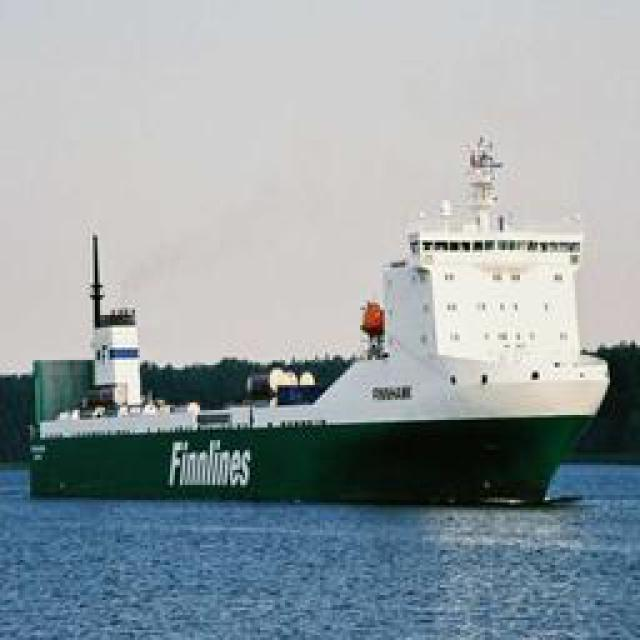Ship: (156, 124, 591, 509)
